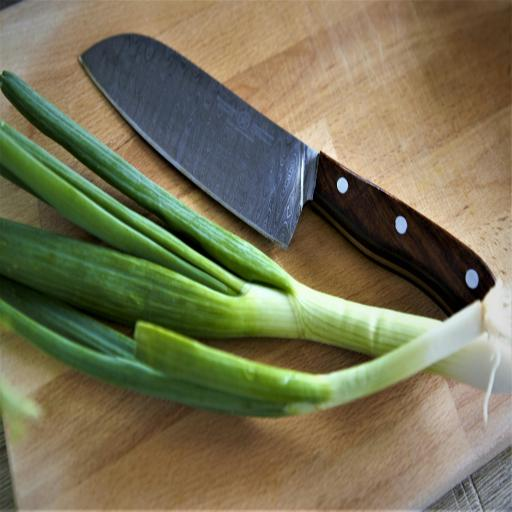knife: (74, 17, 498, 367)
